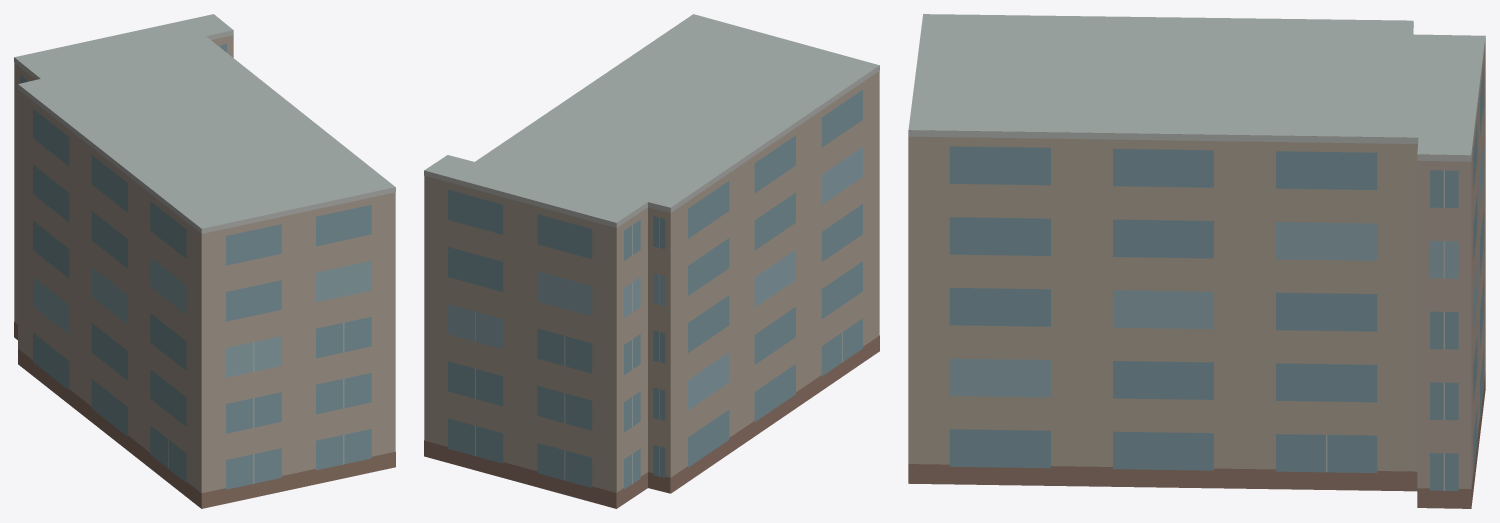
Rendered from survey-upis-33026190.glb.
The picture shows the model from 3 angles, left to right: view 1: azimuth 30°, elevation 25°; view 2: azimuth 150°, elevation 25°; view 3: azimuth 270°, elevation 25°; orthographic projection. The views are drawn at different scales.
Parts seen in each view (by area): view 1: survey-upis-33026190.tmp; view 2: survey-upis-33026190.tmp; view 3: survey-upis-33026190.tmp.
Part boxes in pixels (left/top/right/bottom): survey-upis-33026190.tmp: left=14, top=14, right=395, bottom=508; survey-upis-33026190.tmp: left=424, top=14, right=879, bottom=508; survey-upis-33026190.tmp: left=908, top=14, right=1485, bottom=508.
Size of the model in its own units: 11.4 by 13.3 by 19.68.
